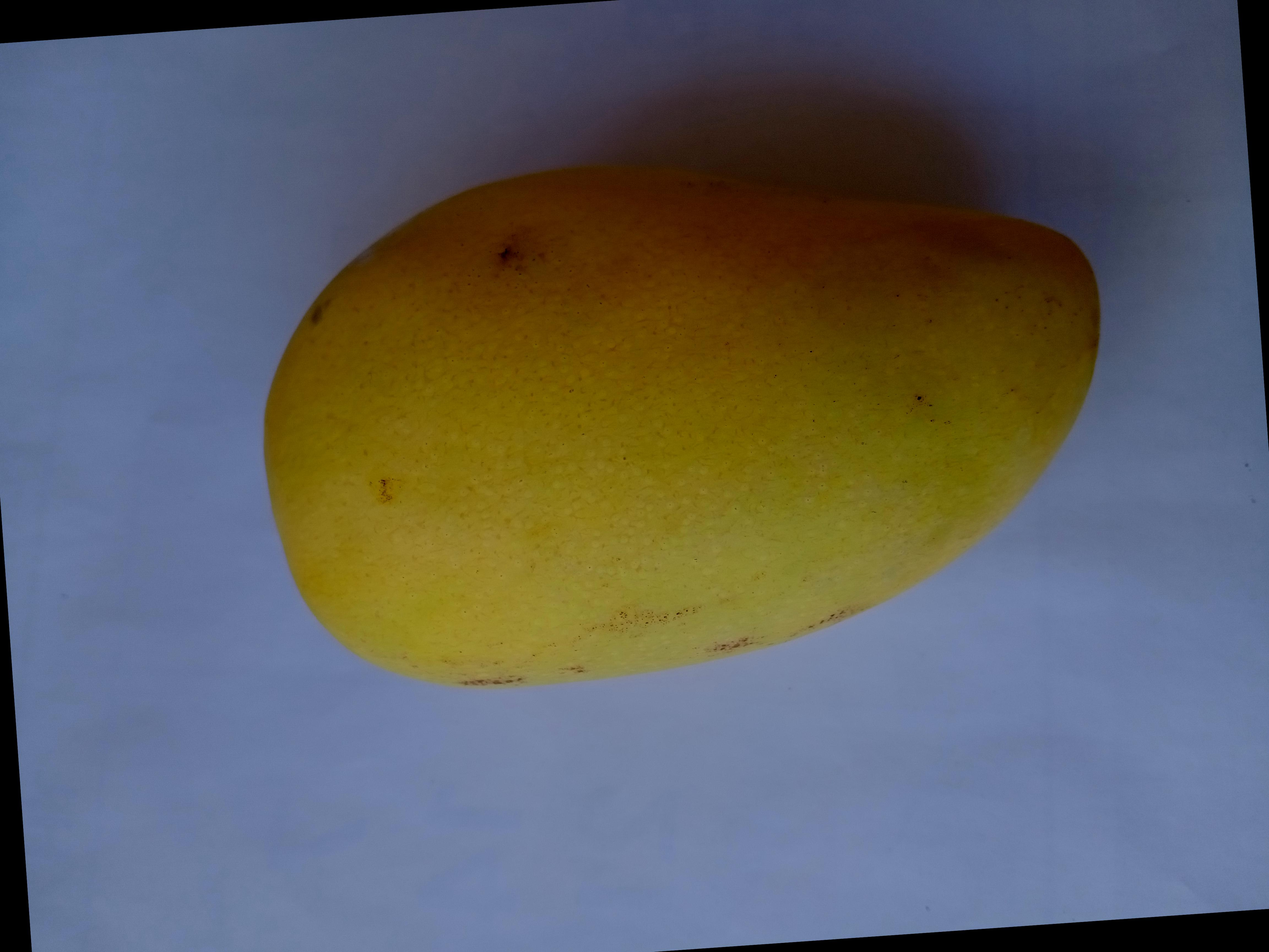Mango Ripe: (151, 126, 1123, 785)
